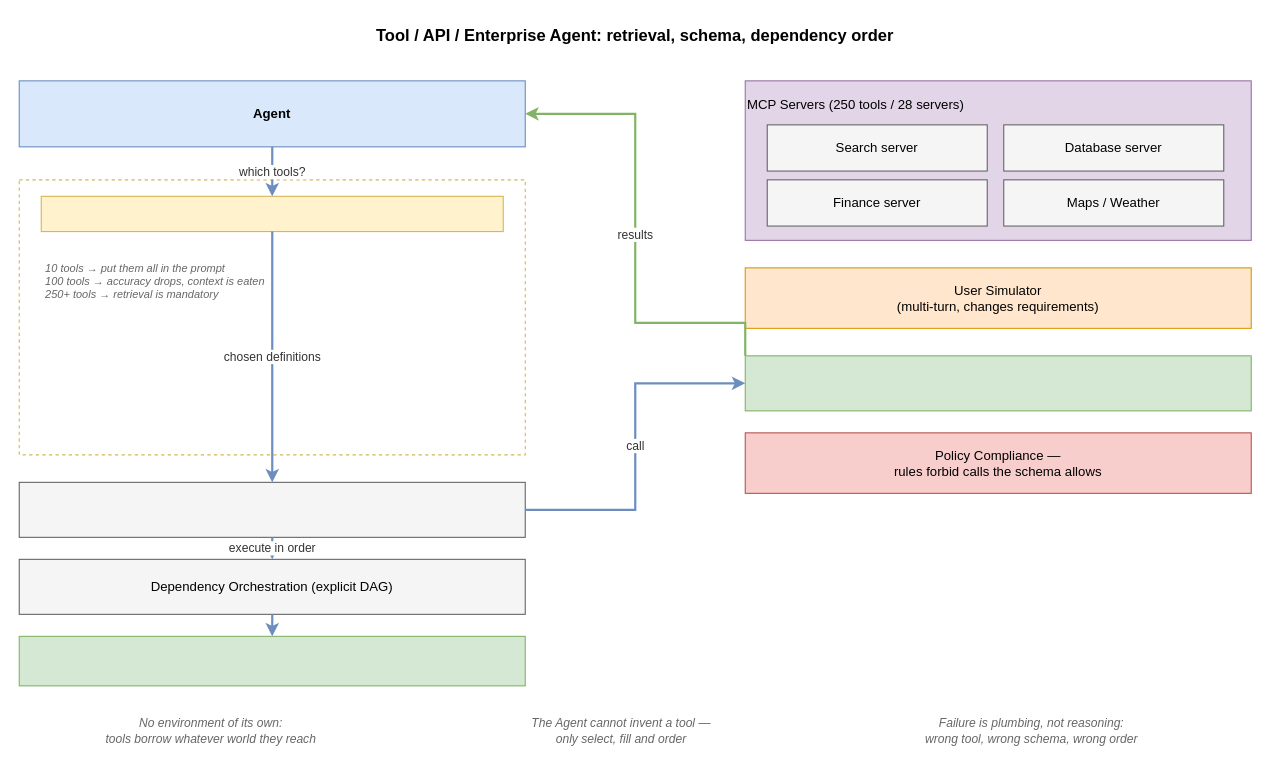
Image size: 1271x781. Some labels were removed from this diagram. The centre of each missing label's shape, as x and y in pixels:
End-State Assertion · pass^k: (997,383)
Permission Scope · Audit Log · Human Confirmation: (271,660)
Schema Validation + one automatic retry: (271,509)
Tool Retrieval: (271,213)
